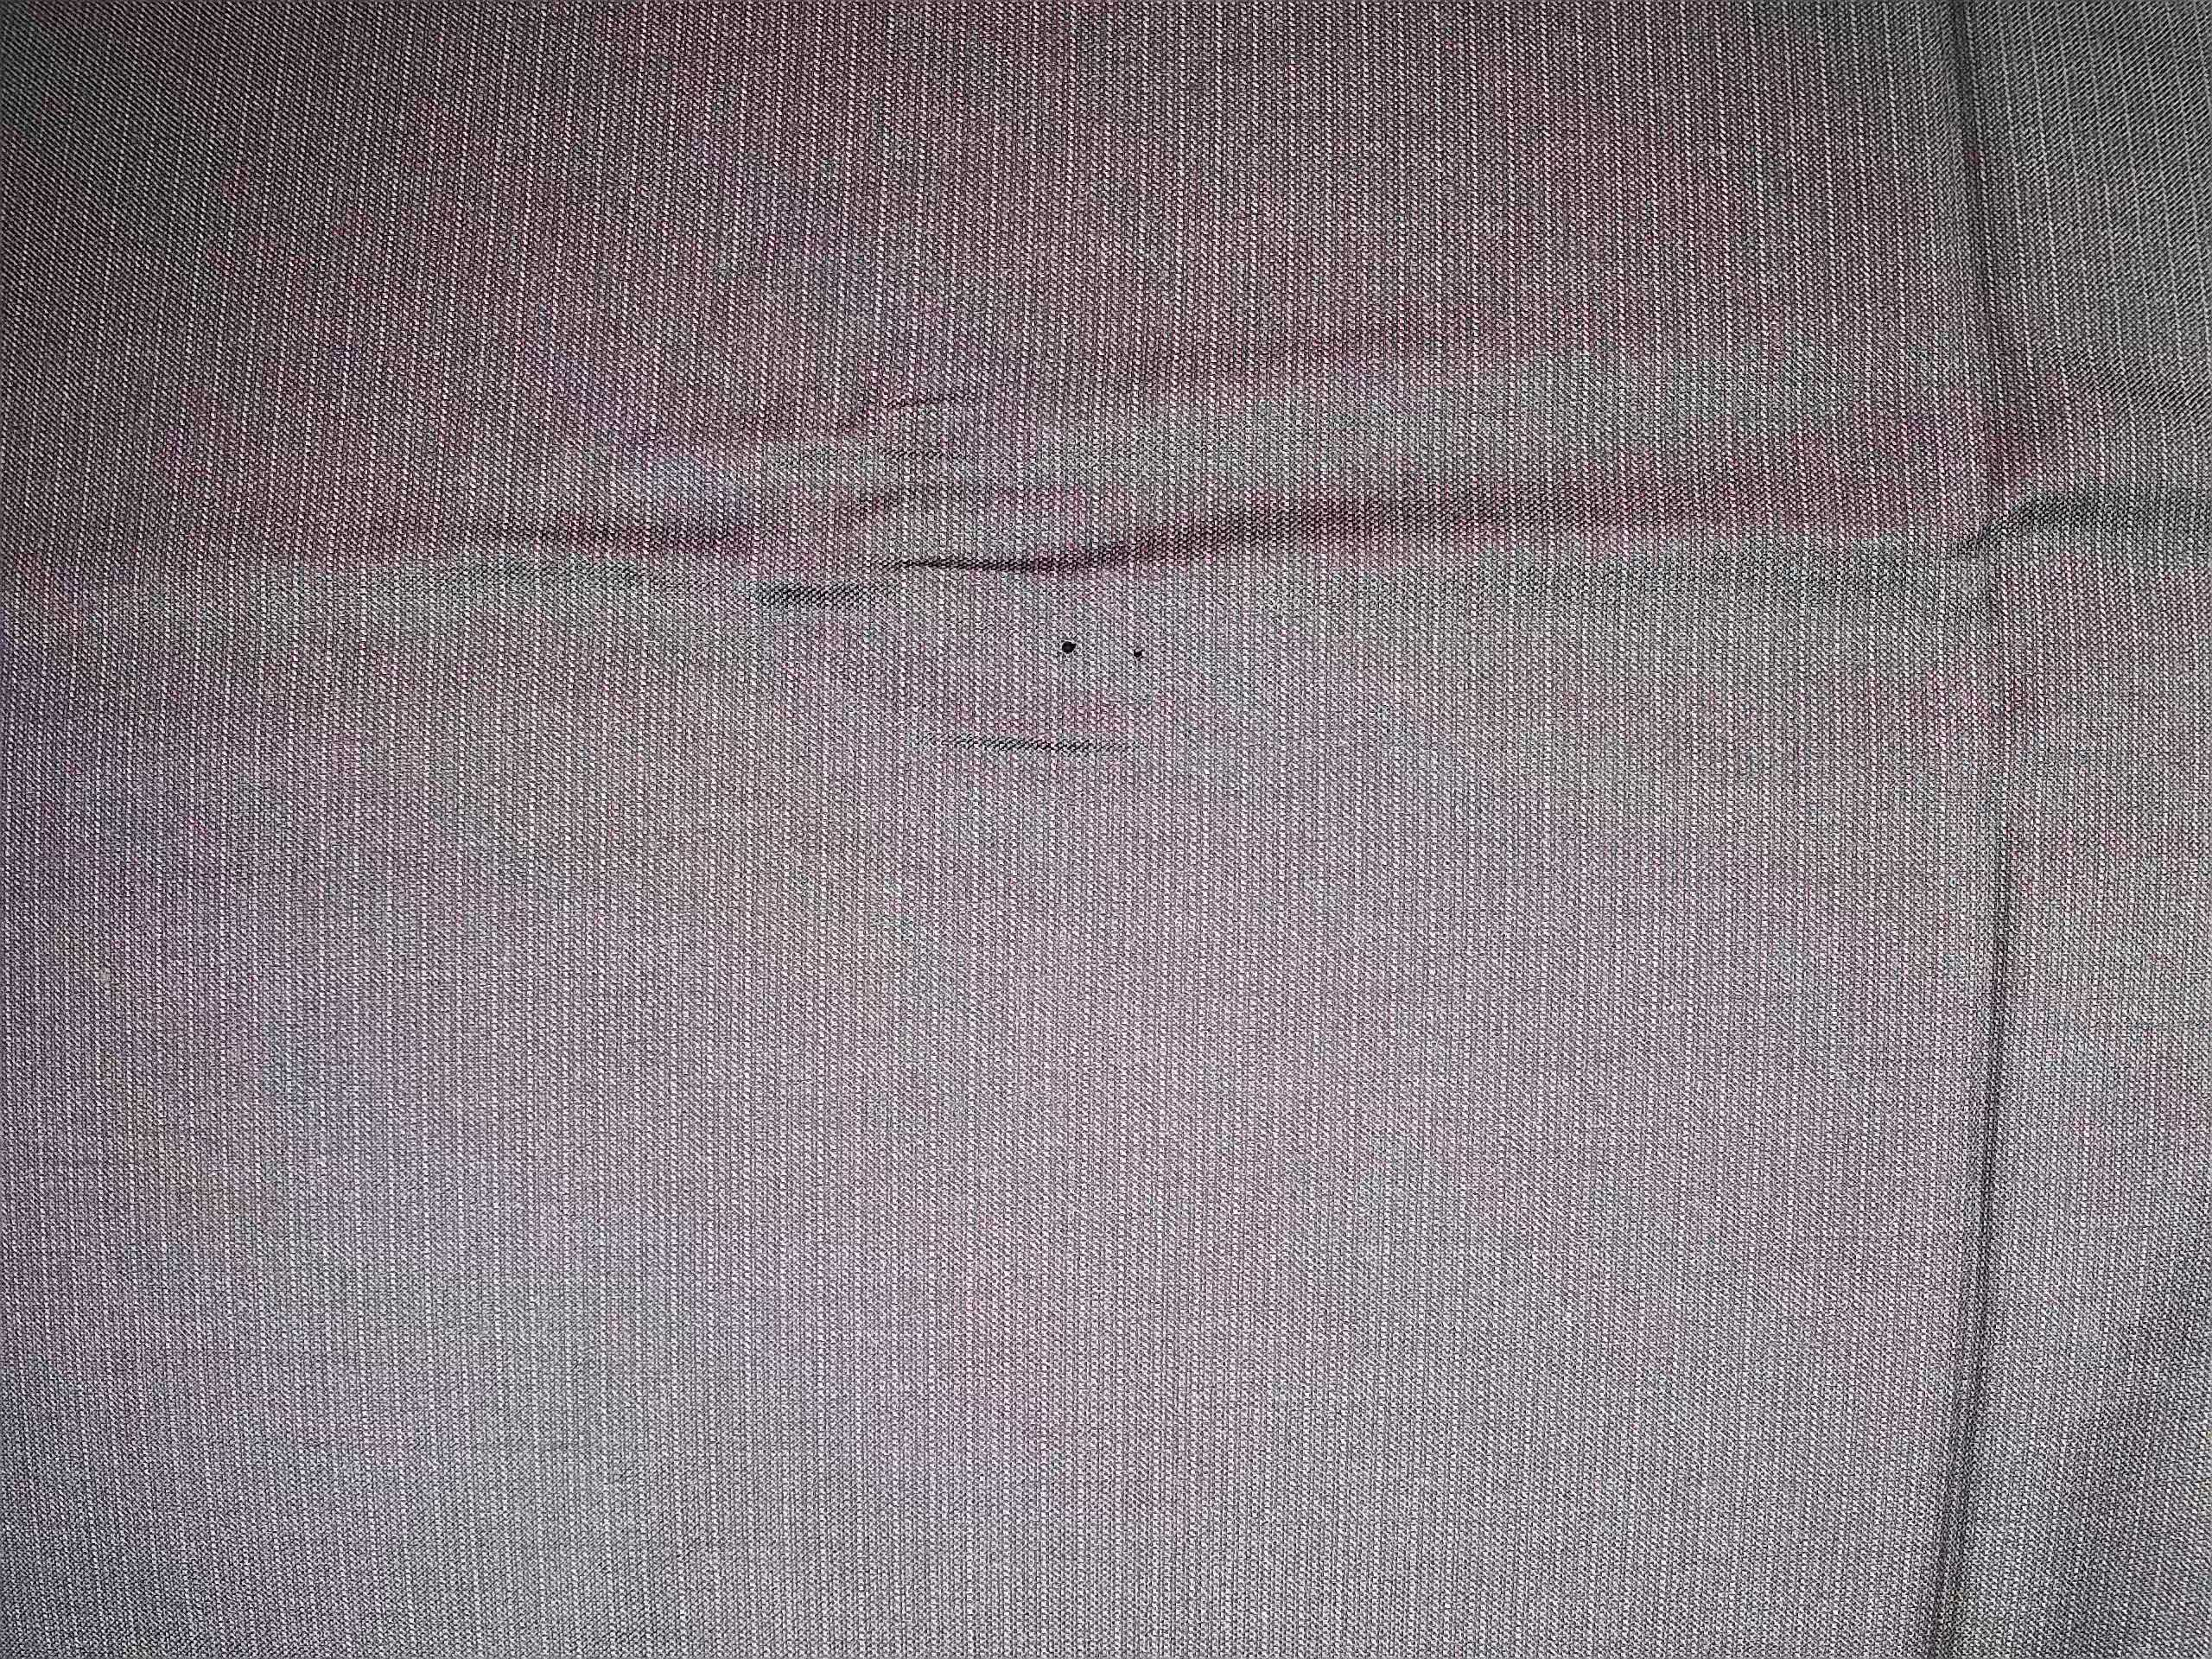others: (1042, 619, 1167, 685)
